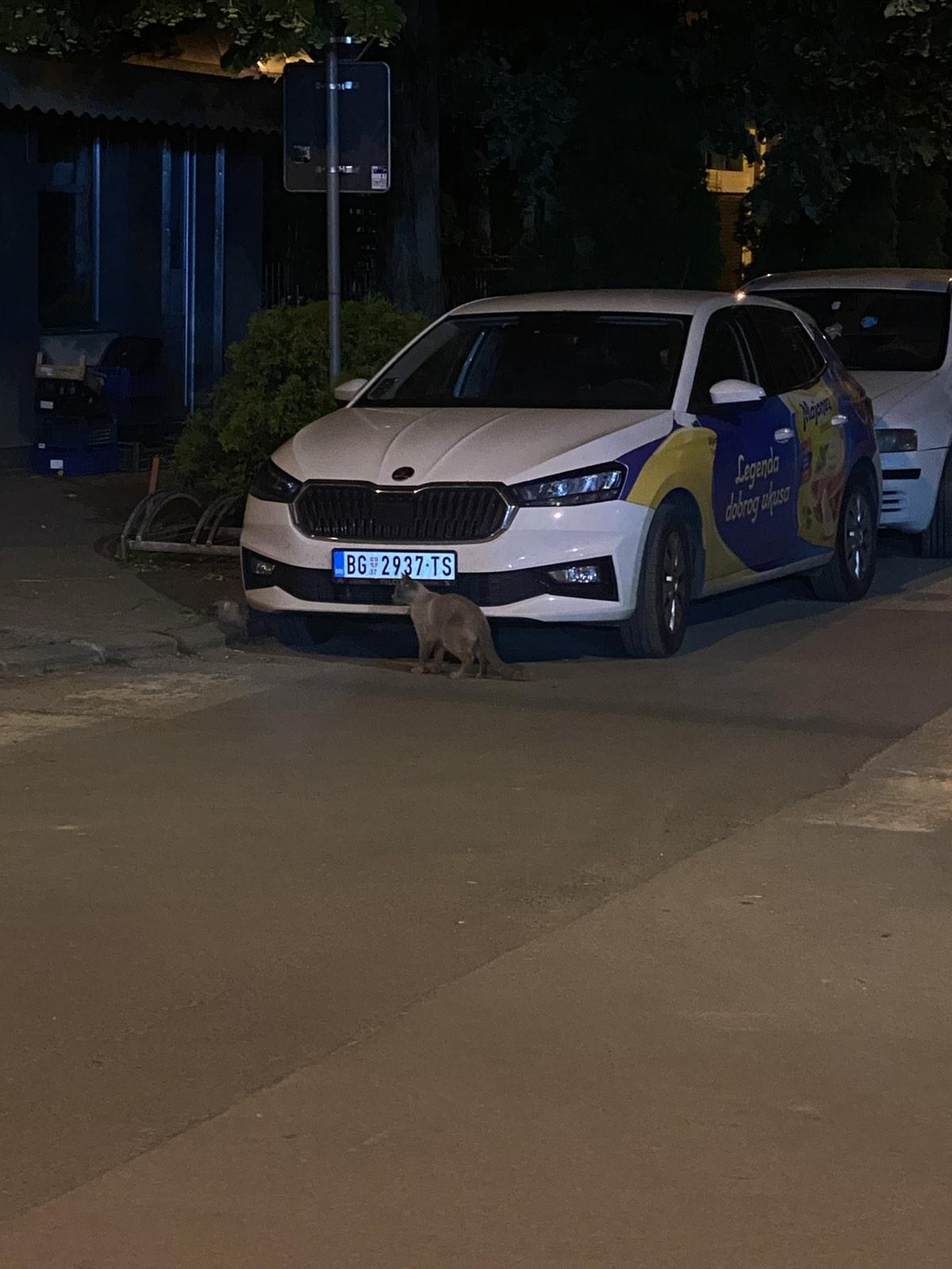macka: (391, 569, 535, 680)
